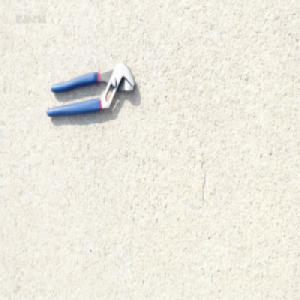Pliers: (46, 60, 137, 119)
